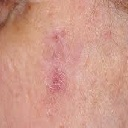Actinic: (42, 27, 69, 93)
